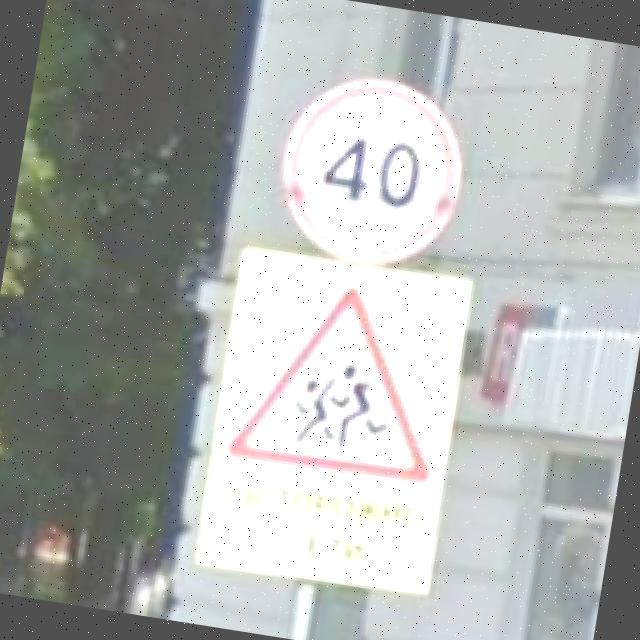Dzieci: (224, 268, 455, 490)
Ograniczenie predkosci do 40: (268, 64, 480, 280)
